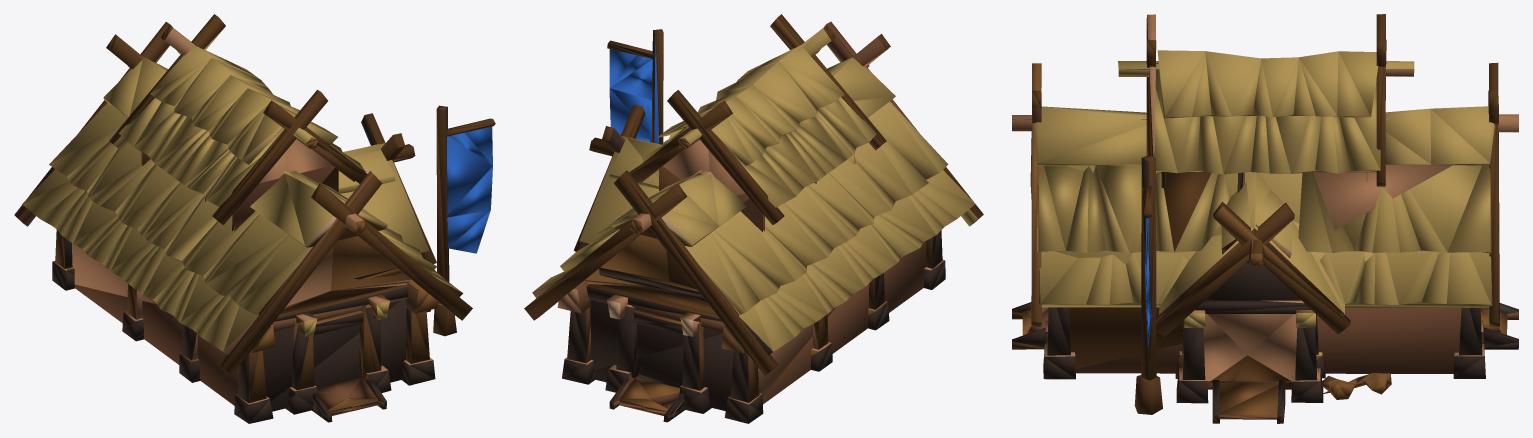
File: building.dwelling_large.glb
3 views of the same model, side by side, from view 1: azimuth 30°, elevation 25°; view 2: azimuth 150°, elevation 25°; view 3: azimuth 270°, elevation 25° (orthographic). The views are drawn at different scales.
Visible parts, largest first — view 1: asset; view 2: asset; view 3: asset.
Part boxes in pixels (box(x1,y1,x2,y2)): asset: box(14, 14, 495, 423); asset: box(524, 14, 983, 423); asset: box(1012, 14, 1518, 423).
Size of the model in its own units: 1.81 by 1.48 by 2.2.
